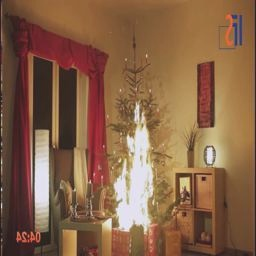fire: (101, 95, 165, 240)
